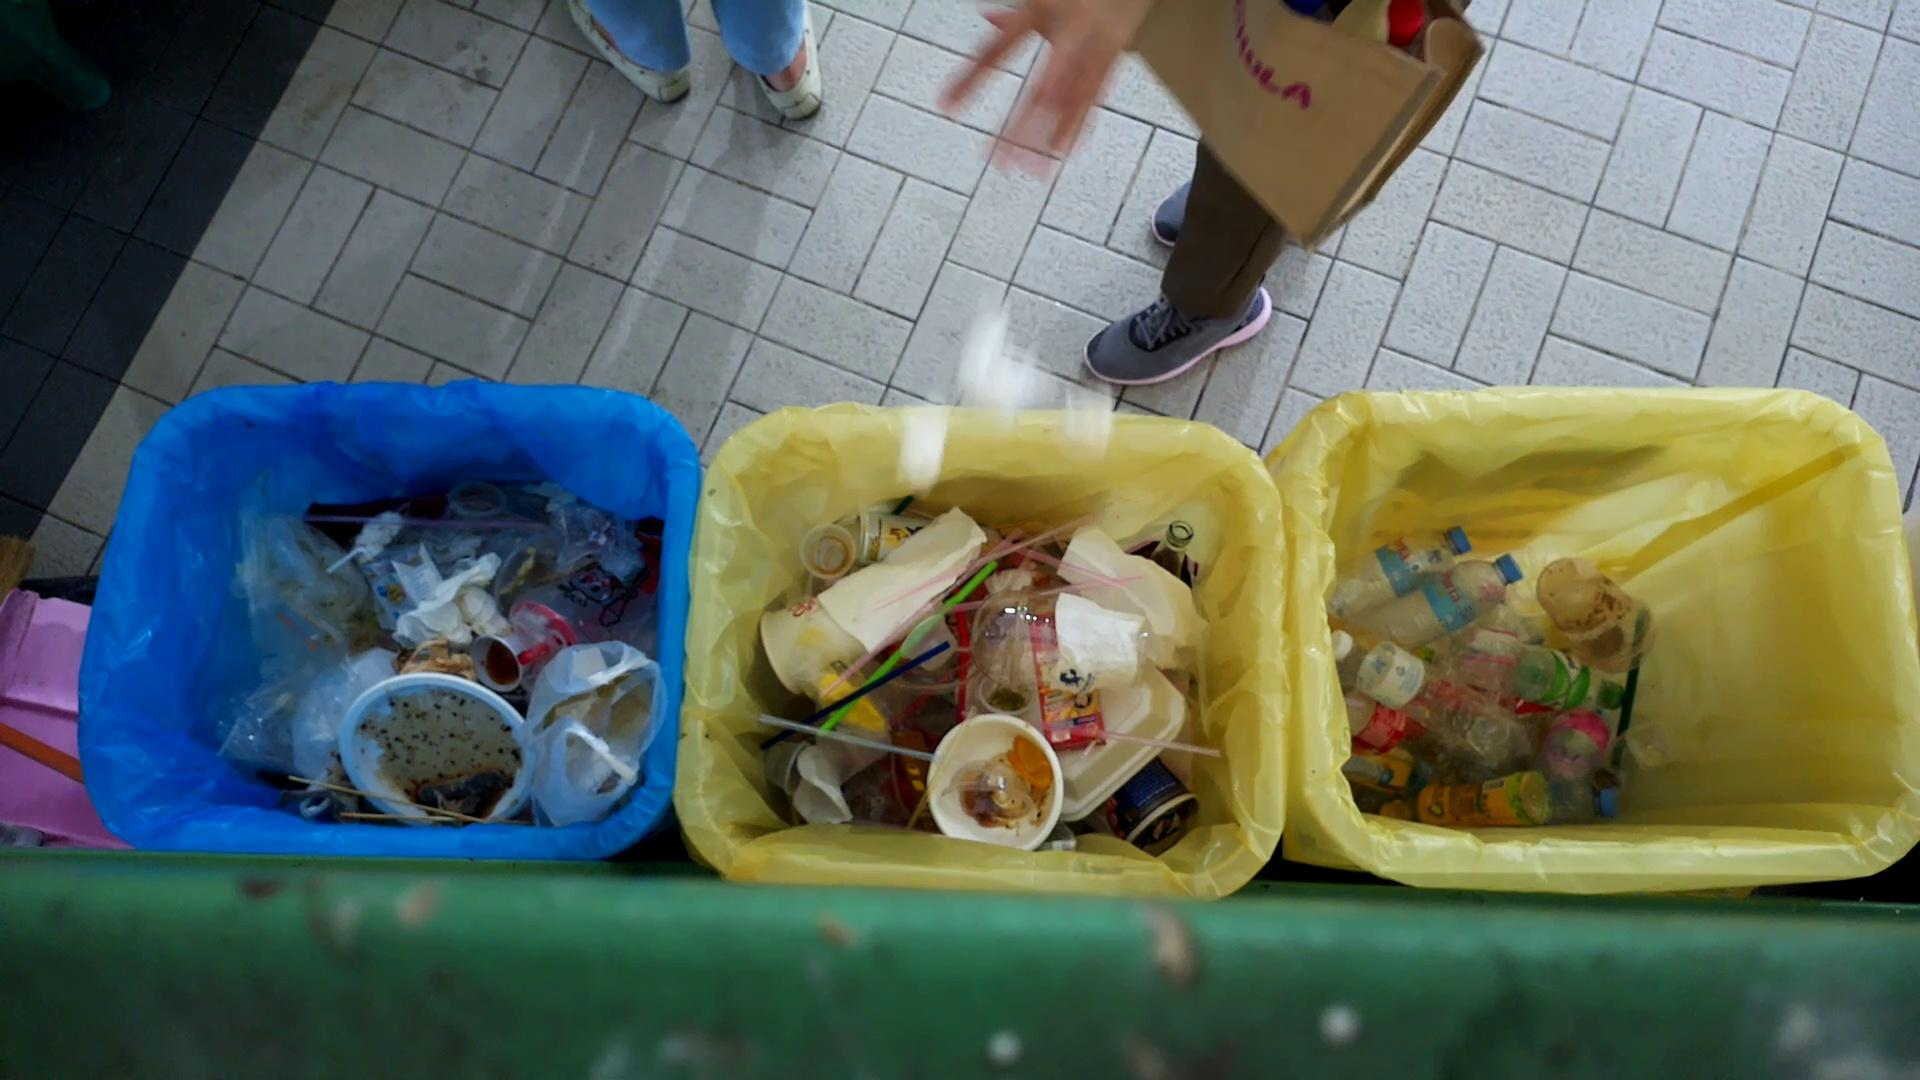dirty food container: (338, 673, 534, 827)
food container: (928, 713, 1064, 852), (460, 628, 525, 691), (802, 521, 860, 575)
plastic bottle: (1331, 629, 1519, 761), (1338, 551, 1524, 654), (1331, 526, 1472, 621), (1386, 778, 1555, 822)
plastic cup: (965, 587, 1149, 691), (1536, 556, 1660, 667), (938, 758, 1038, 831)
snack packaging: (1010, 733, 1051, 789)
sticks: (284, 774, 487, 824), (334, 814, 537, 824)
straw: (814, 529, 1022, 694), (815, 559, 996, 738), (870, 508, 1100, 634), (762, 641, 952, 745), (757, 713, 1000, 775), (905, 700, 978, 835), (919, 572, 1146, 613), (1014, 720, 1222, 760)
tissue paper: (389, 551, 508, 653), (1044, 592, 1143, 696), (959, 310, 1035, 430), (890, 401, 949, 492), (1052, 382, 1118, 451)
